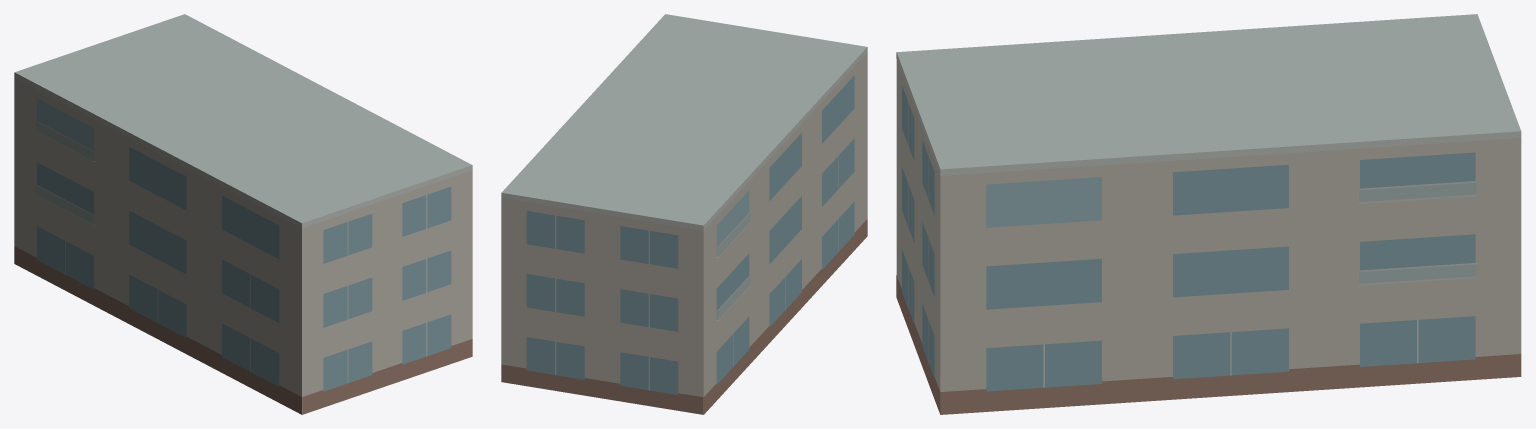
The model's file is survey-upis-32571134.glb.
3 renders of one model, left to right at view 1: azimuth 30°, elevation 25°; view 2: azimuth 150°, elevation 25°; view 3: azimuth 270°, elevation 25°, orthographic. The views are drawn at different scales.
Visible parts, largest first — view 1: survey-upis-32571134.tmp; view 2: survey-upis-32571134.tmp; view 3: survey-upis-32571134.tmp.
Boxes of the visible parts, box(x1,y1,x2,y2) form: survey-upis-32571134.tmp: box(14, 14, 472, 414); survey-upis-32571134.tmp: box(501, 14, 867, 414); survey-upis-32571134.tmp: box(896, 14, 1521, 414).
Size of the model in its own units: 12.43 by 9.15 by 21.12.
